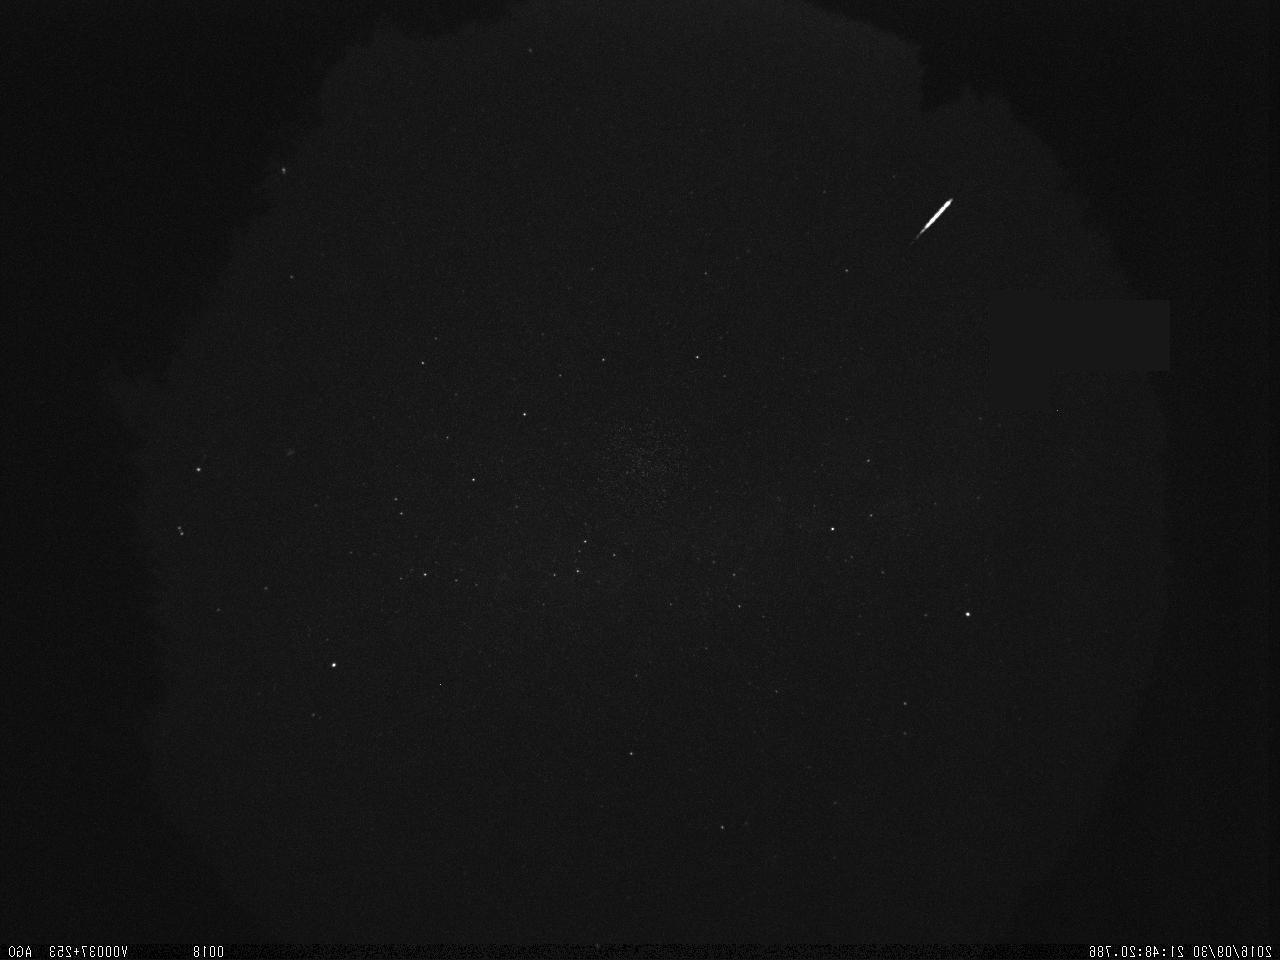meteor: (873, 176, 1000, 249)
